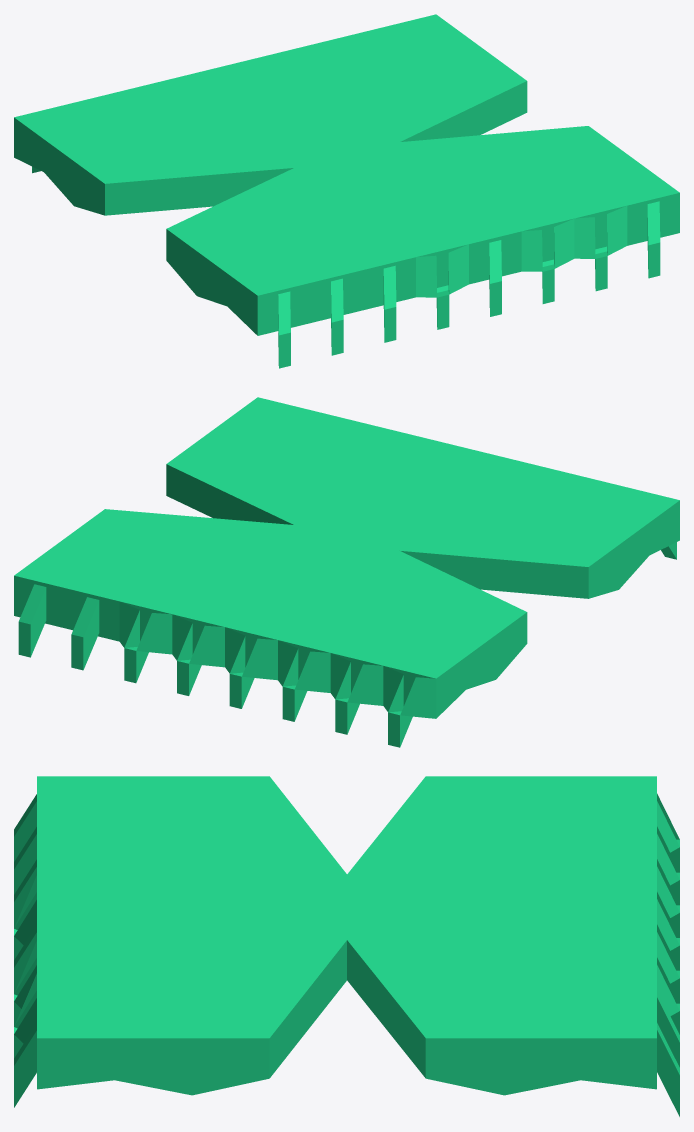
The model's file is VenusBearTrapModel_Open.fbx.
3 renders of one model, top to bottom at view 1: azimuth 30°, elevation 25°; view 2: azimuth 150°, elevation 25°; view 3: azimuth 270°, elevation 25°, orthographic. The views are drawn at different scales.
Visible parts, largest first — view 1: Exterior; view 2: Exterior; view 3: Exterior.
Boxes of the visible parts, x1=… form: Exterior: x1=14, y1=14, x2=679, y2=368; Exterior: x1=14, y1=397, x2=679, y2=747; Exterior: x1=14, y1=776, x2=679, y2=1116.
Size of the model in its own units: 300 by 46.97 by 322.
